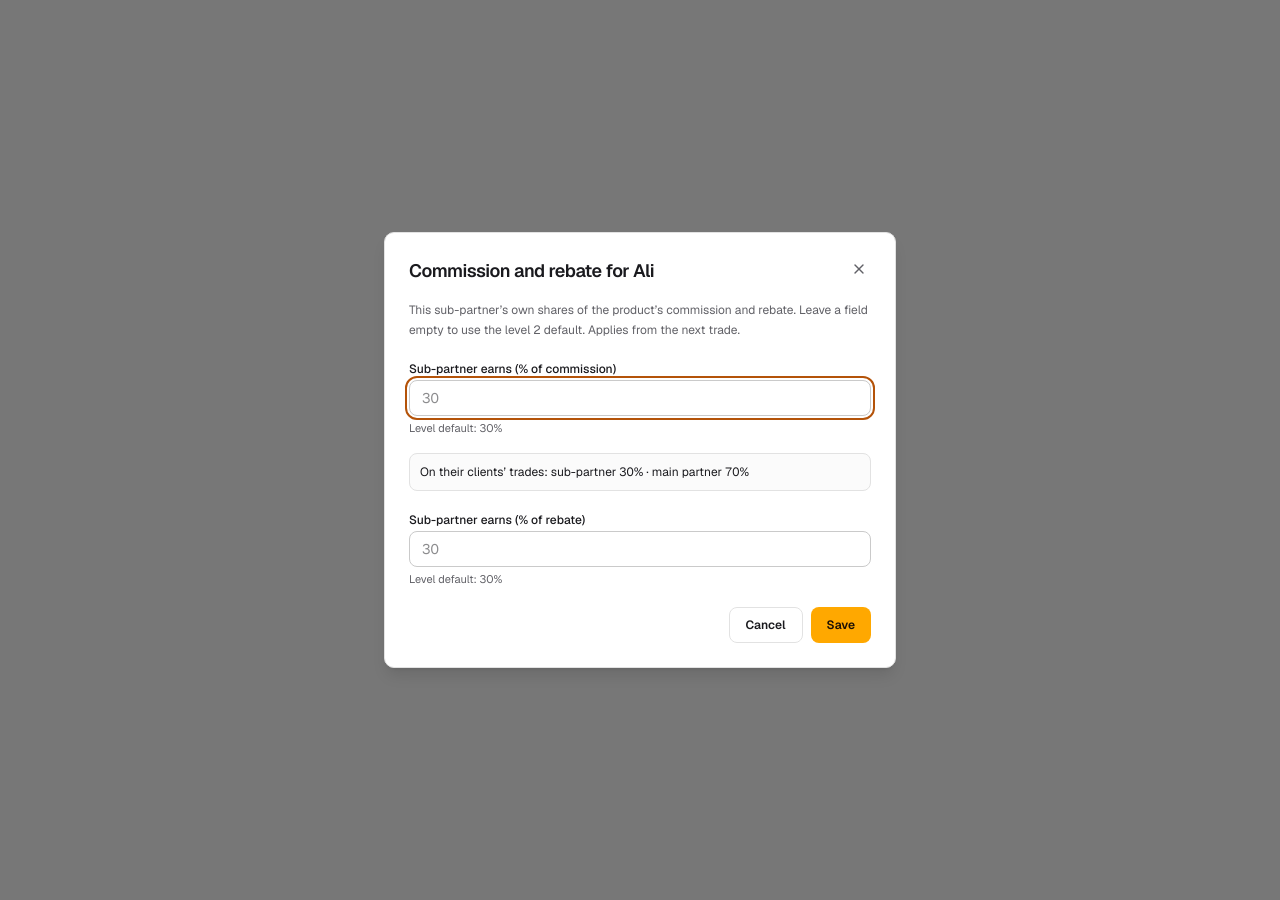
it: a sub-partner’s own commission and rebate › refuses a share above 100% and sends nothing
Type "150" into the field labelled "Sub-partner earns (% of commission) Level default: 30%" at (640, 398), box [409, 380, 871, 416]
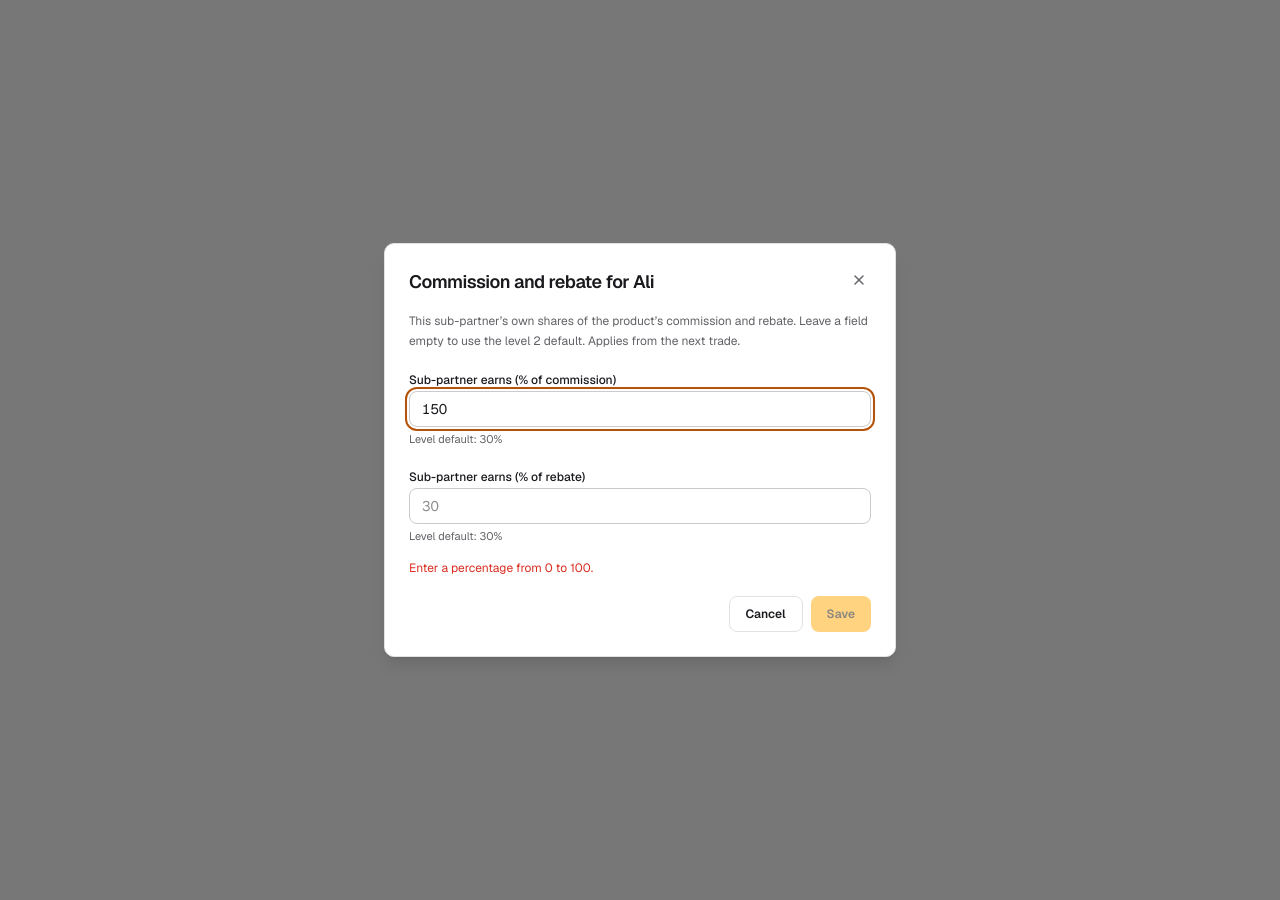
Expected: the message shows "0 to 100", [409, 560, 593, 576]
Expected: the button "Save" is disabled, [810, 596, 871, 632]
